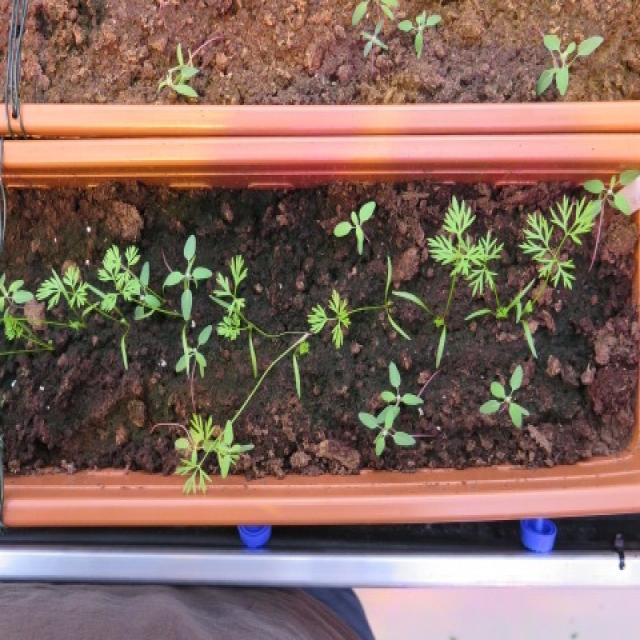weed: (474, 358, 530, 432), (324, 197, 376, 260)
